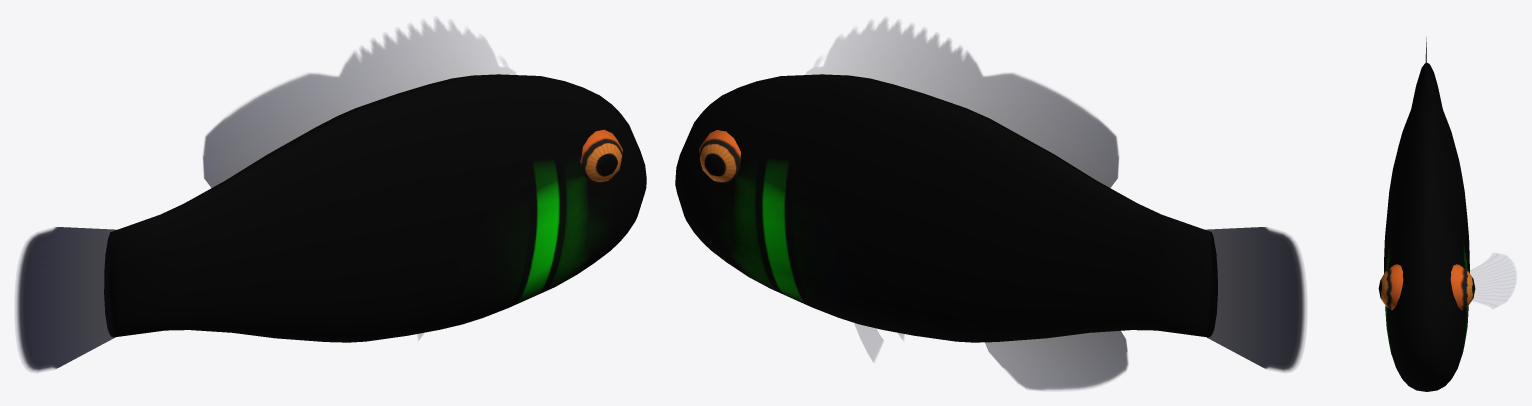
Rendered from clown_darwin_lod1.glb.
3 views of the same model, side by side, from view 1: azimuth 30°, elevation 25°; view 2: azimuth 150°, elevation 25°; view 3: azimuth 270°, elevation 25° (orthographic). The views are drawn at different scales.
Parts seen in each view (by area): view 1: Body, FinDorsal, FinCaudal, EyeR; view 2: Body, FinDorsal, FinCaudal, FinAnal, EyeL, FinPelvicL; view 3: Body, EyeL, EyeR, FinPectoralL, FinDorsal.
Boxes of the visible parts, bbox=[...] form: Body: bbox=[104, 74, 646, 342]; FinDorsal: bbox=[203, 19, 515, 188]; FinCaudal: bbox=[15, 227, 117, 372]; EyeR: bbox=[580, 129, 622, 182]; Body: bbox=[675, 74, 1217, 342]; FinDorsal: bbox=[806, 19, 1118, 188]; FinCaudal: bbox=[1204, 227, 1306, 372]; FinAnal: bbox=[985, 331, 1128, 390]; EyeL: bbox=[699, 130, 740, 182]; FinPelvicL: bbox=[854, 322, 883, 361]; Body: bbox=[1384, 63, 1469, 391]; EyeL: bbox=[1450, 264, 1475, 310]; EyeR: bbox=[1378, 264, 1403, 310]; FinPectoralL: bbox=[1470, 254, 1515, 306]; FinDorsal: bbox=[1424, 37, 1426, 151].
Bounding box in the file's own units: 1 × 0.5197 × 0.2847.
4 materials, 3 textured.
